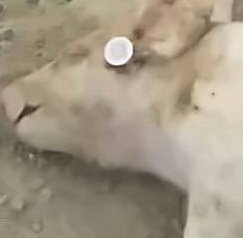text: (91, 25, 144, 77)
